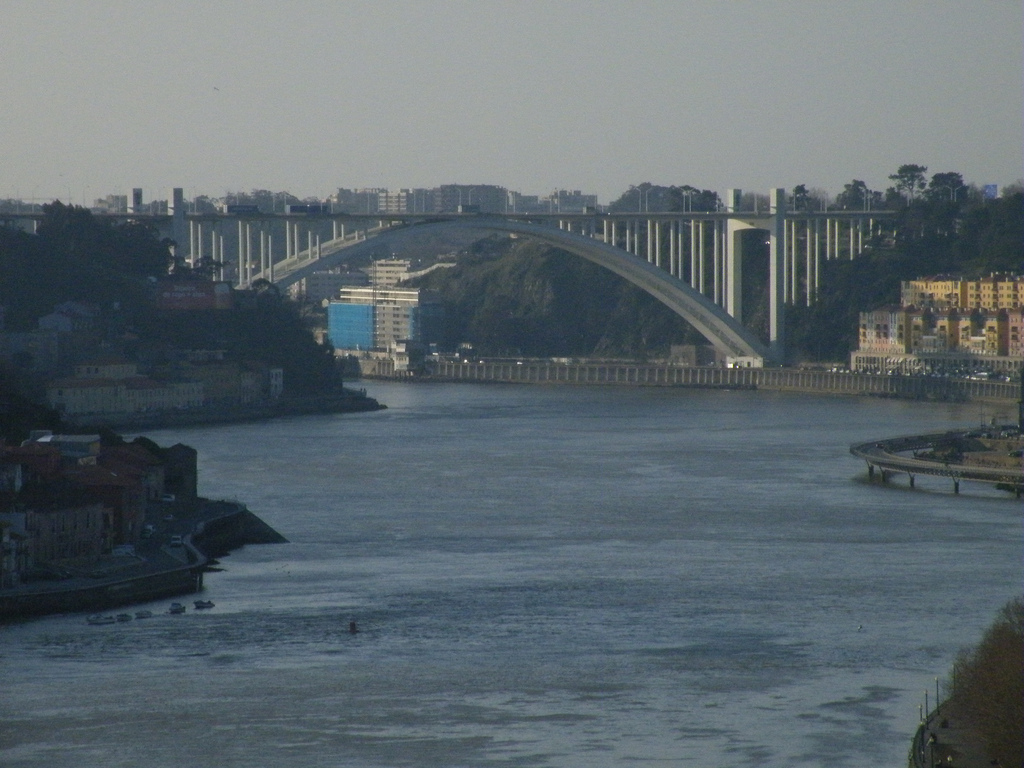arrabida: (92, 186, 903, 370)
